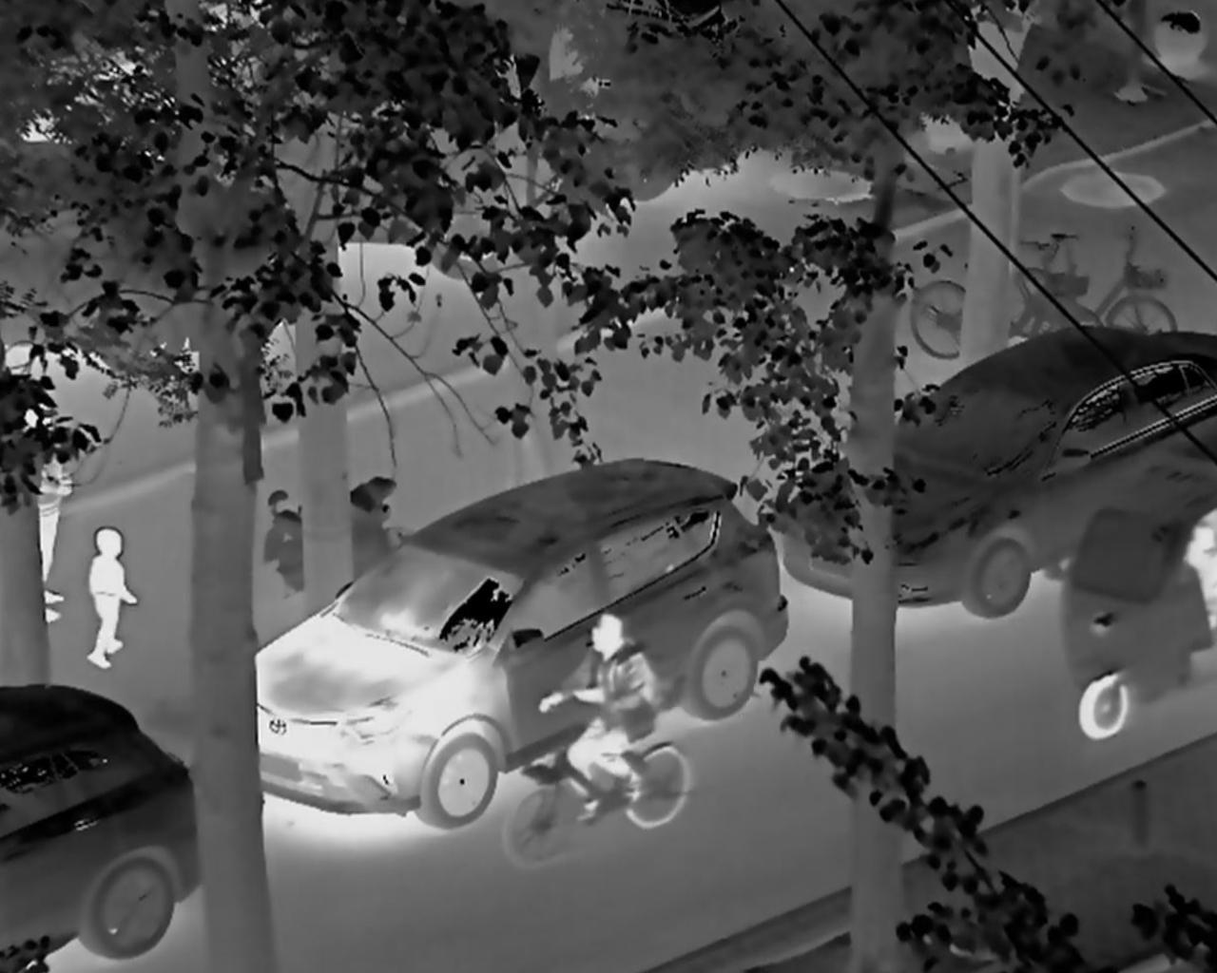person: (524, 607, 664, 821), (77, 527, 148, 675)
